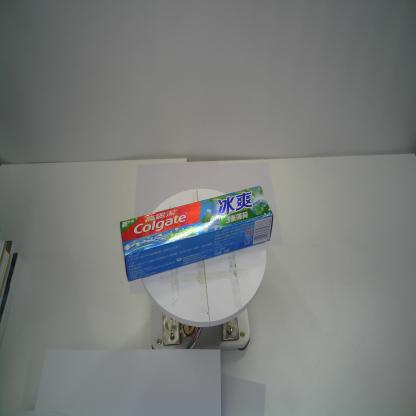Personal Hygiene: (120, 185, 274, 285)
